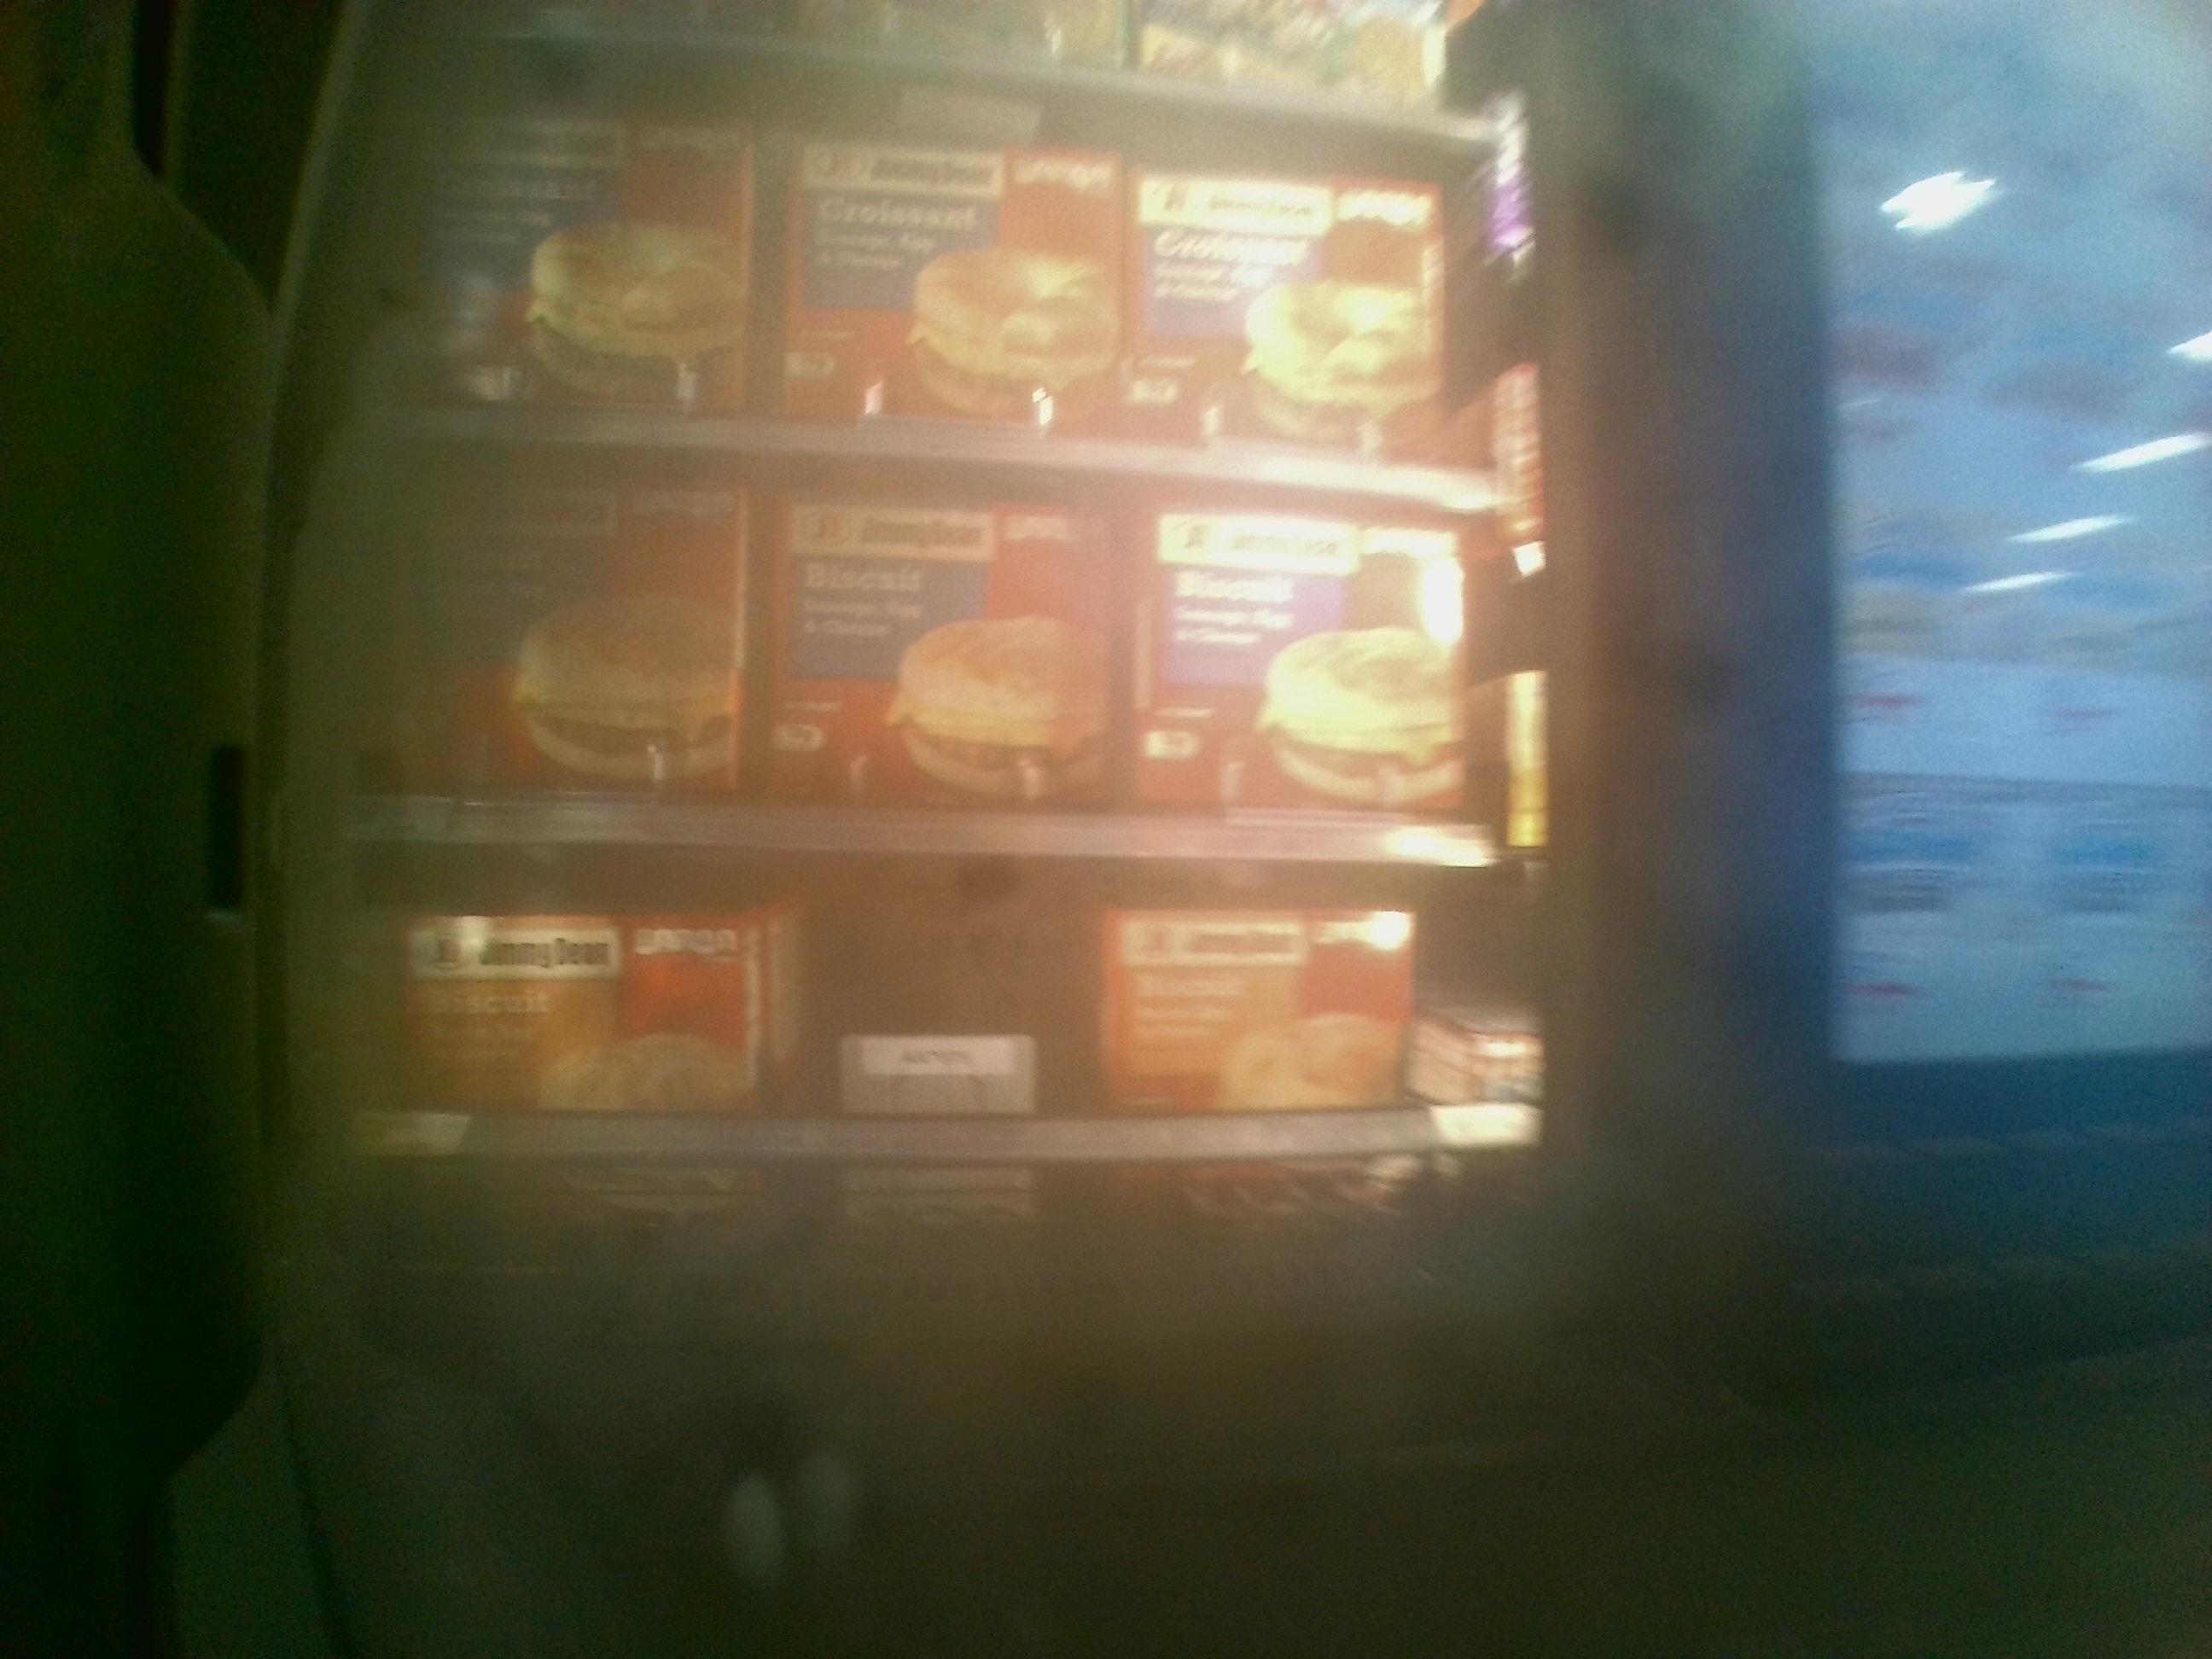shelf: (331, 422, 1529, 849), (336, 854, 1547, 1270)
